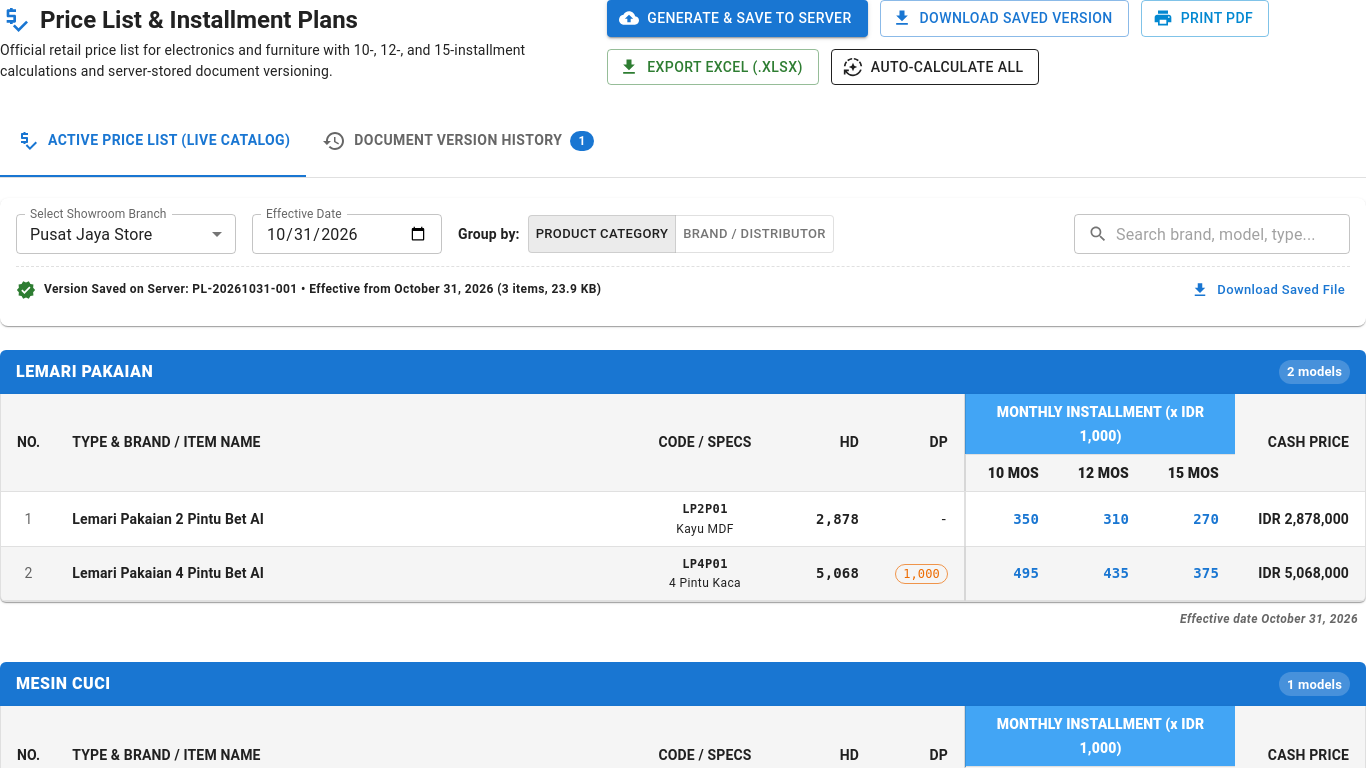
Scenario: PriceListPage › opens generate version dialog when Generate & Simpan ke Server clicked
Click the button "Generate & Save to Server".
click(737, 18)  # box [607,0,868,36]
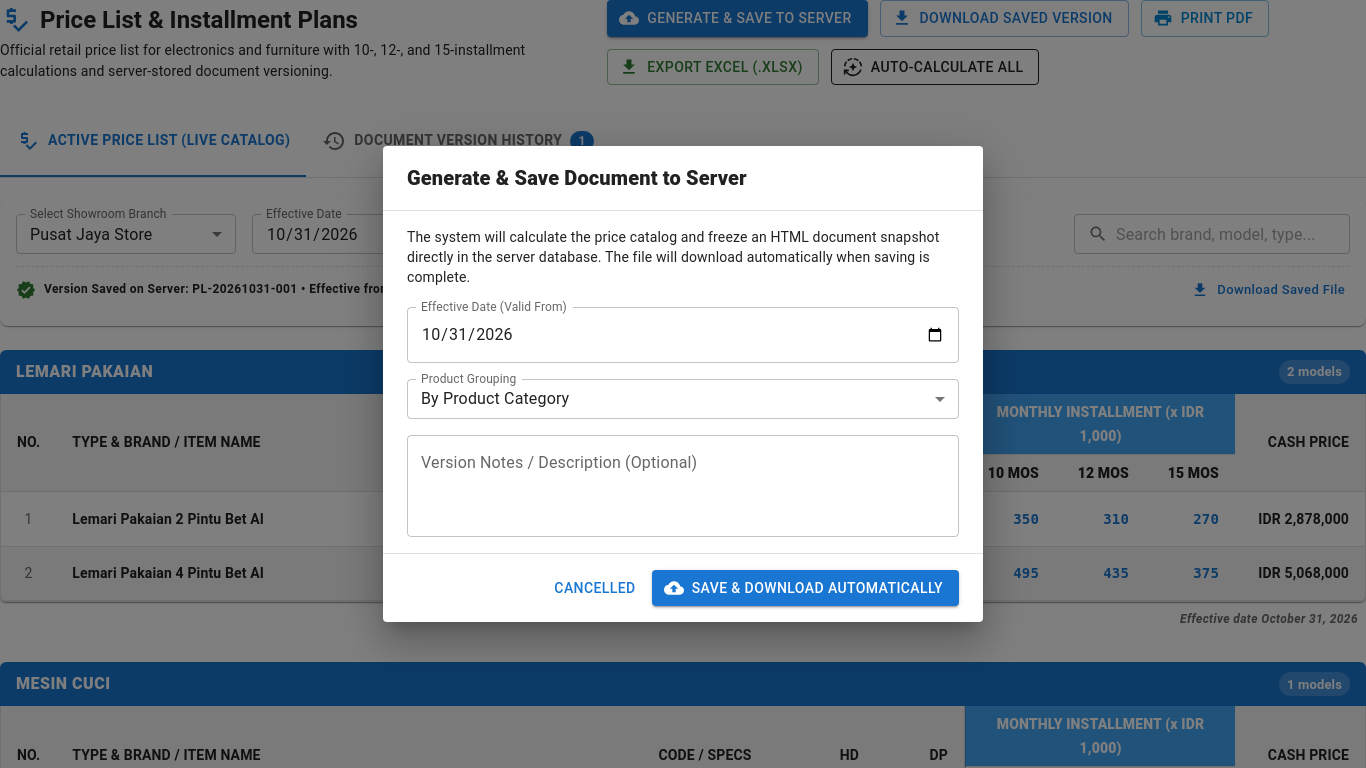
Check: the heading "Generate & Save Document to Server" is shown, box [407,166,747,190]
Check: the button "Save & Download Automatically" is shown, box [652,570,959,606]
